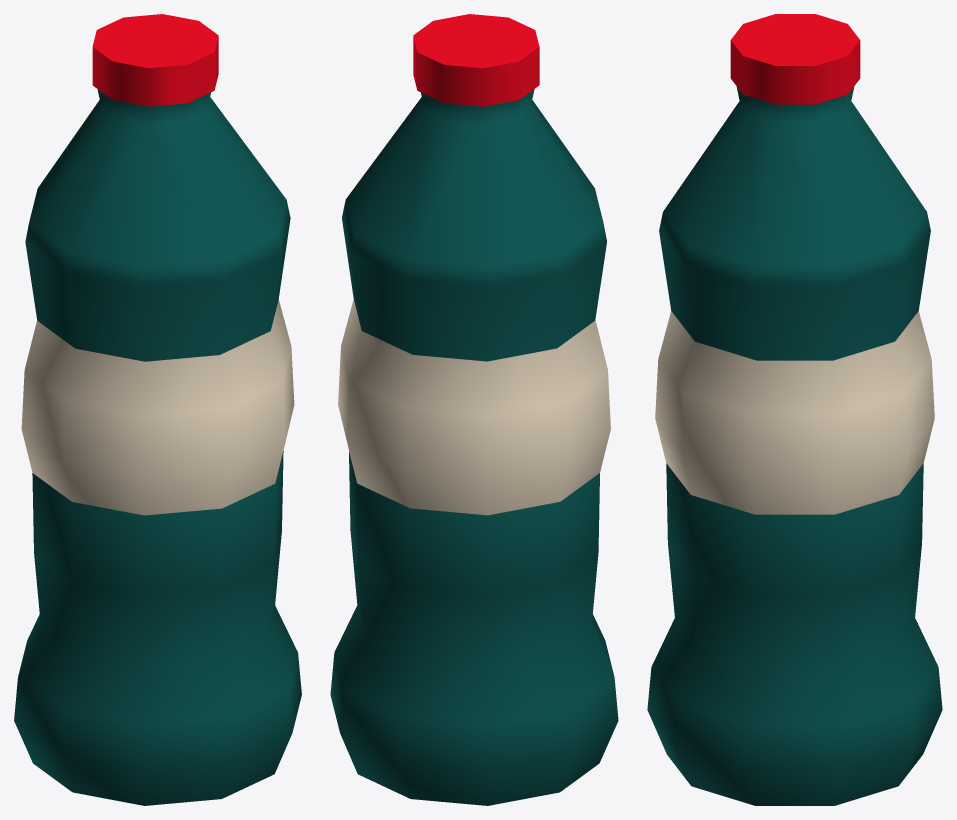
The model's file is SM_Water_Bottle.fbx.
The picture shows the model from 3 angles, left to right: view 1: azimuth 30°, elevation 25°; view 2: azimuth 150°, elevation 25°; view 3: azimuth 270°, elevation 25°; orthographic projection.
Visible parts, largest first — view 1: SM_Water_Bottle; view 2: SM_Water_Bottle; view 3: SM_Water_Bottle.
Boxes of the visible parts, x1,y1,x2,y2 form: SM_Water_Bottle: (14,14,301,805); SM_Water_Bottle: (330,14,618,805); SM_Water_Bottle: (647,14,942,805).
Bounding box in the file's own units: 6.97 × 7.33 × 19.54.
1 material, 1 textured.
